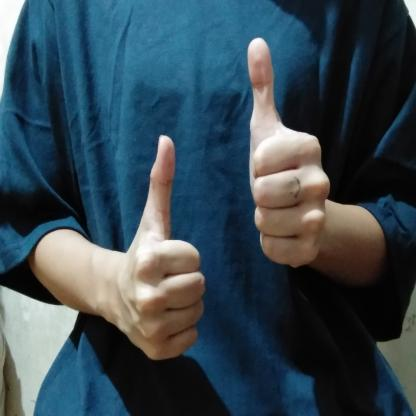which: (119, 35, 332, 370)
